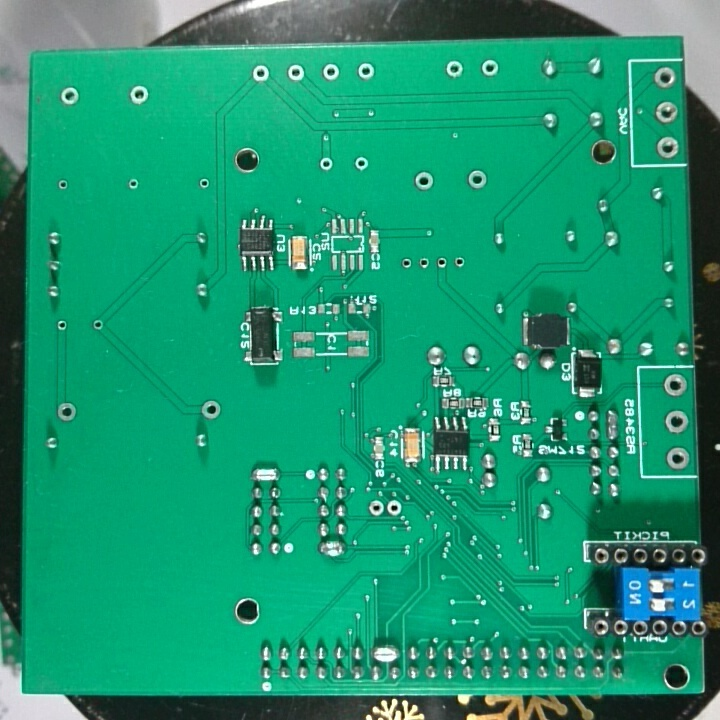F: (660, 370, 689, 399), (462, 166, 493, 193), (652, 98, 679, 127), (663, 407, 689, 436), (654, 133, 683, 159), (125, 81, 152, 108), (665, 443, 693, 469), (412, 166, 436, 196), (651, 65, 677, 92), (54, 398, 80, 423), (478, 55, 502, 82), (442, 57, 466, 83), (248, 62, 274, 85), (353, 60, 379, 83), (319, 60, 343, 84), (199, 398, 222, 421), (57, 84, 81, 106), (285, 62, 307, 85), (352, 152, 372, 175), (414, 252, 433, 274), (367, 497, 385, 519), (433, 252, 451, 274), (88, 315, 108, 334), (397, 254, 415, 273), (385, 498, 402, 518), (195, 175, 212, 195), (449, 254, 470, 270), (125, 175, 142, 193), (316, 154, 331, 174), (54, 317, 70, 335), (55, 176, 69, 195)
P: (247, 463, 283, 483), (605, 403, 622, 443), (371, 642, 402, 663), (317, 539, 348, 559)
